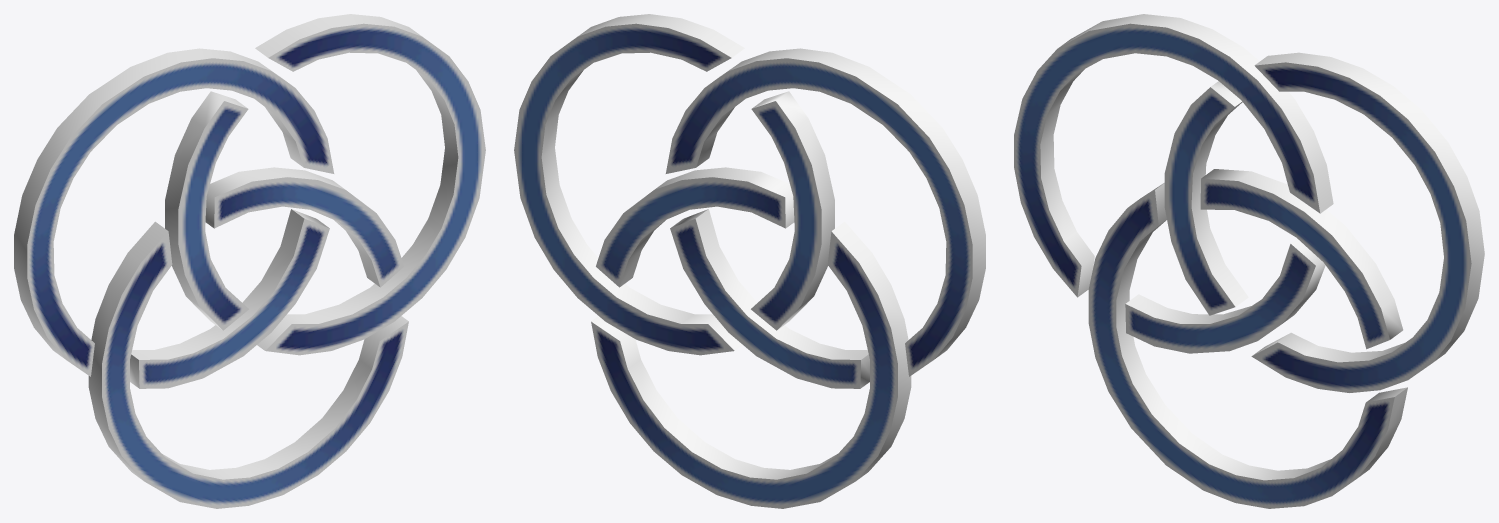
File: icon.ico.obj
3 views of the same model, side by side, from view 1: azimuth 30°, elevation 25°; view 2: azimuth 150°, elevation 25°; view 3: azimuth 330°, elevation 25° (orthographic).
Bounding box in the file's own units: 4.77 × 4.57 × 0.24.
1 material, 1 textured.
